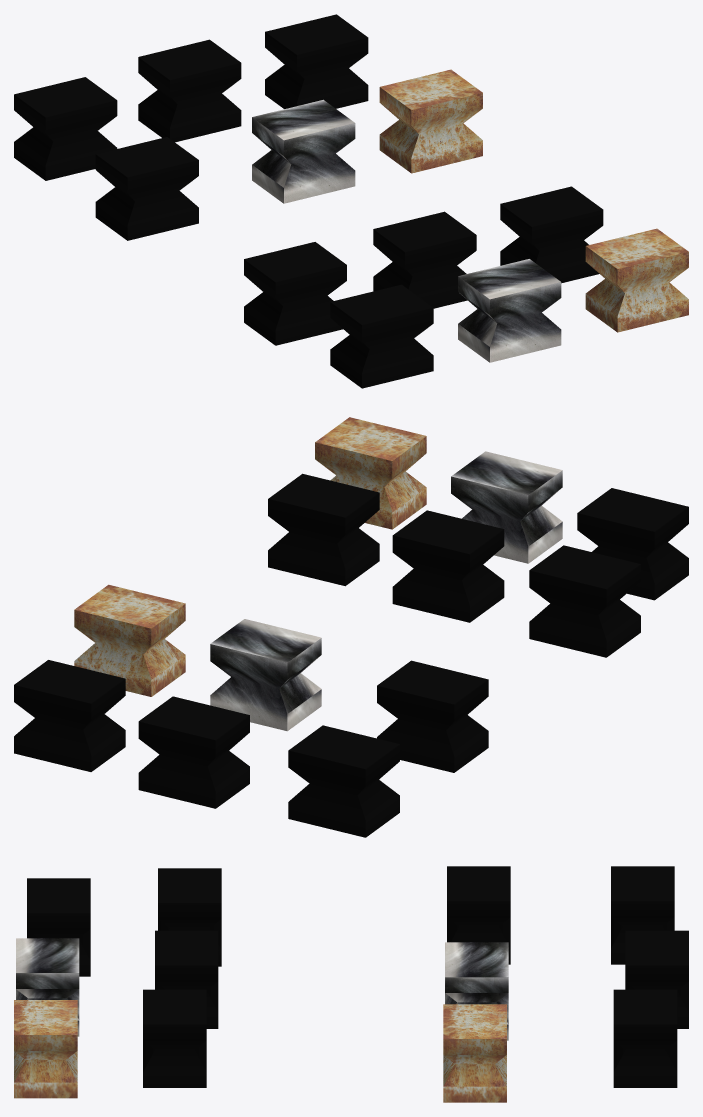
The picture shows the model from 3 angles, top to bottom: view 1: azimuth 30°, elevation 25°; view 2: azimuth 150°, elevation 25°; view 3: azimuth 270°, elevation 25°; orthographic projection. The views are drawn at different scales.
Parts seen in each view (by area): view 1: Box009, Box010 (×2), Box001, Box012, Box006, Box002, Box004, Box011, Box005, Box003; view 2: Box009, Box010 (×2), Box003, Box005, Box011, Box004, Box012, Box002, Box001, Box006; view 3: Box010 (×2), Box009, Box011, Box005, Box006, Box012, Box001, Box003, Box004, Box002.
Boxes of the visible parts, bbox=[...] form: Box009: bbox=[138, 39, 355, 203]; Box010 (×2): bbox=[14, 77, 198, 240]; Box001: bbox=[330, 284, 433, 388]; Box012: bbox=[379, 69, 482, 173]; Box006: bbox=[585, 228, 688, 332]; Box002: bbox=[458, 259, 561, 362]; Box004: bbox=[244, 242, 346, 345]; Box011: bbox=[265, 14, 368, 108]; Box005: bbox=[500, 186, 603, 283]; Box003: bbox=[373, 211, 476, 308]; Box009: bbox=[138, 619, 321, 808]; Box010 (×2): bbox=[288, 660, 488, 837]; Box003: bbox=[392, 510, 504, 622]; Box005: bbox=[268, 473, 379, 586]; Box011: bbox=[14, 660, 125, 771]; Box004: bbox=[529, 545, 640, 657]; Box012: bbox=[74, 584, 185, 696]; Box002: bbox=[451, 451, 562, 563]; Box001: bbox=[577, 488, 688, 600]; Box006: bbox=[315, 417, 426, 529]; Box010 (×2): bbox=[447, 866, 674, 964]; Box009: bbox=[445, 930, 688, 1040]; Box011: bbox=[613, 989, 677, 1087]; Box005: bbox=[143, 989, 206, 1087]; Box006: bbox=[14, 1000, 77, 1098]; Box012: bbox=[443, 1004, 506, 1102]; Box001: bbox=[27, 878, 90, 976]; Box003: bbox=[155, 930, 218, 1028]; Box004: bbox=[158, 868, 221, 966]; Box002: bbox=[16, 938, 79, 1036].
Size of the model in its own units: 320 by 54.9 by 529.
Materials: 6 (2 with a texture image).
